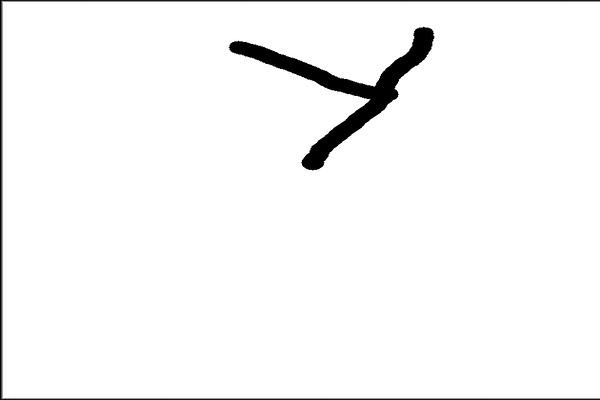Y: (218, 22, 441, 177)
